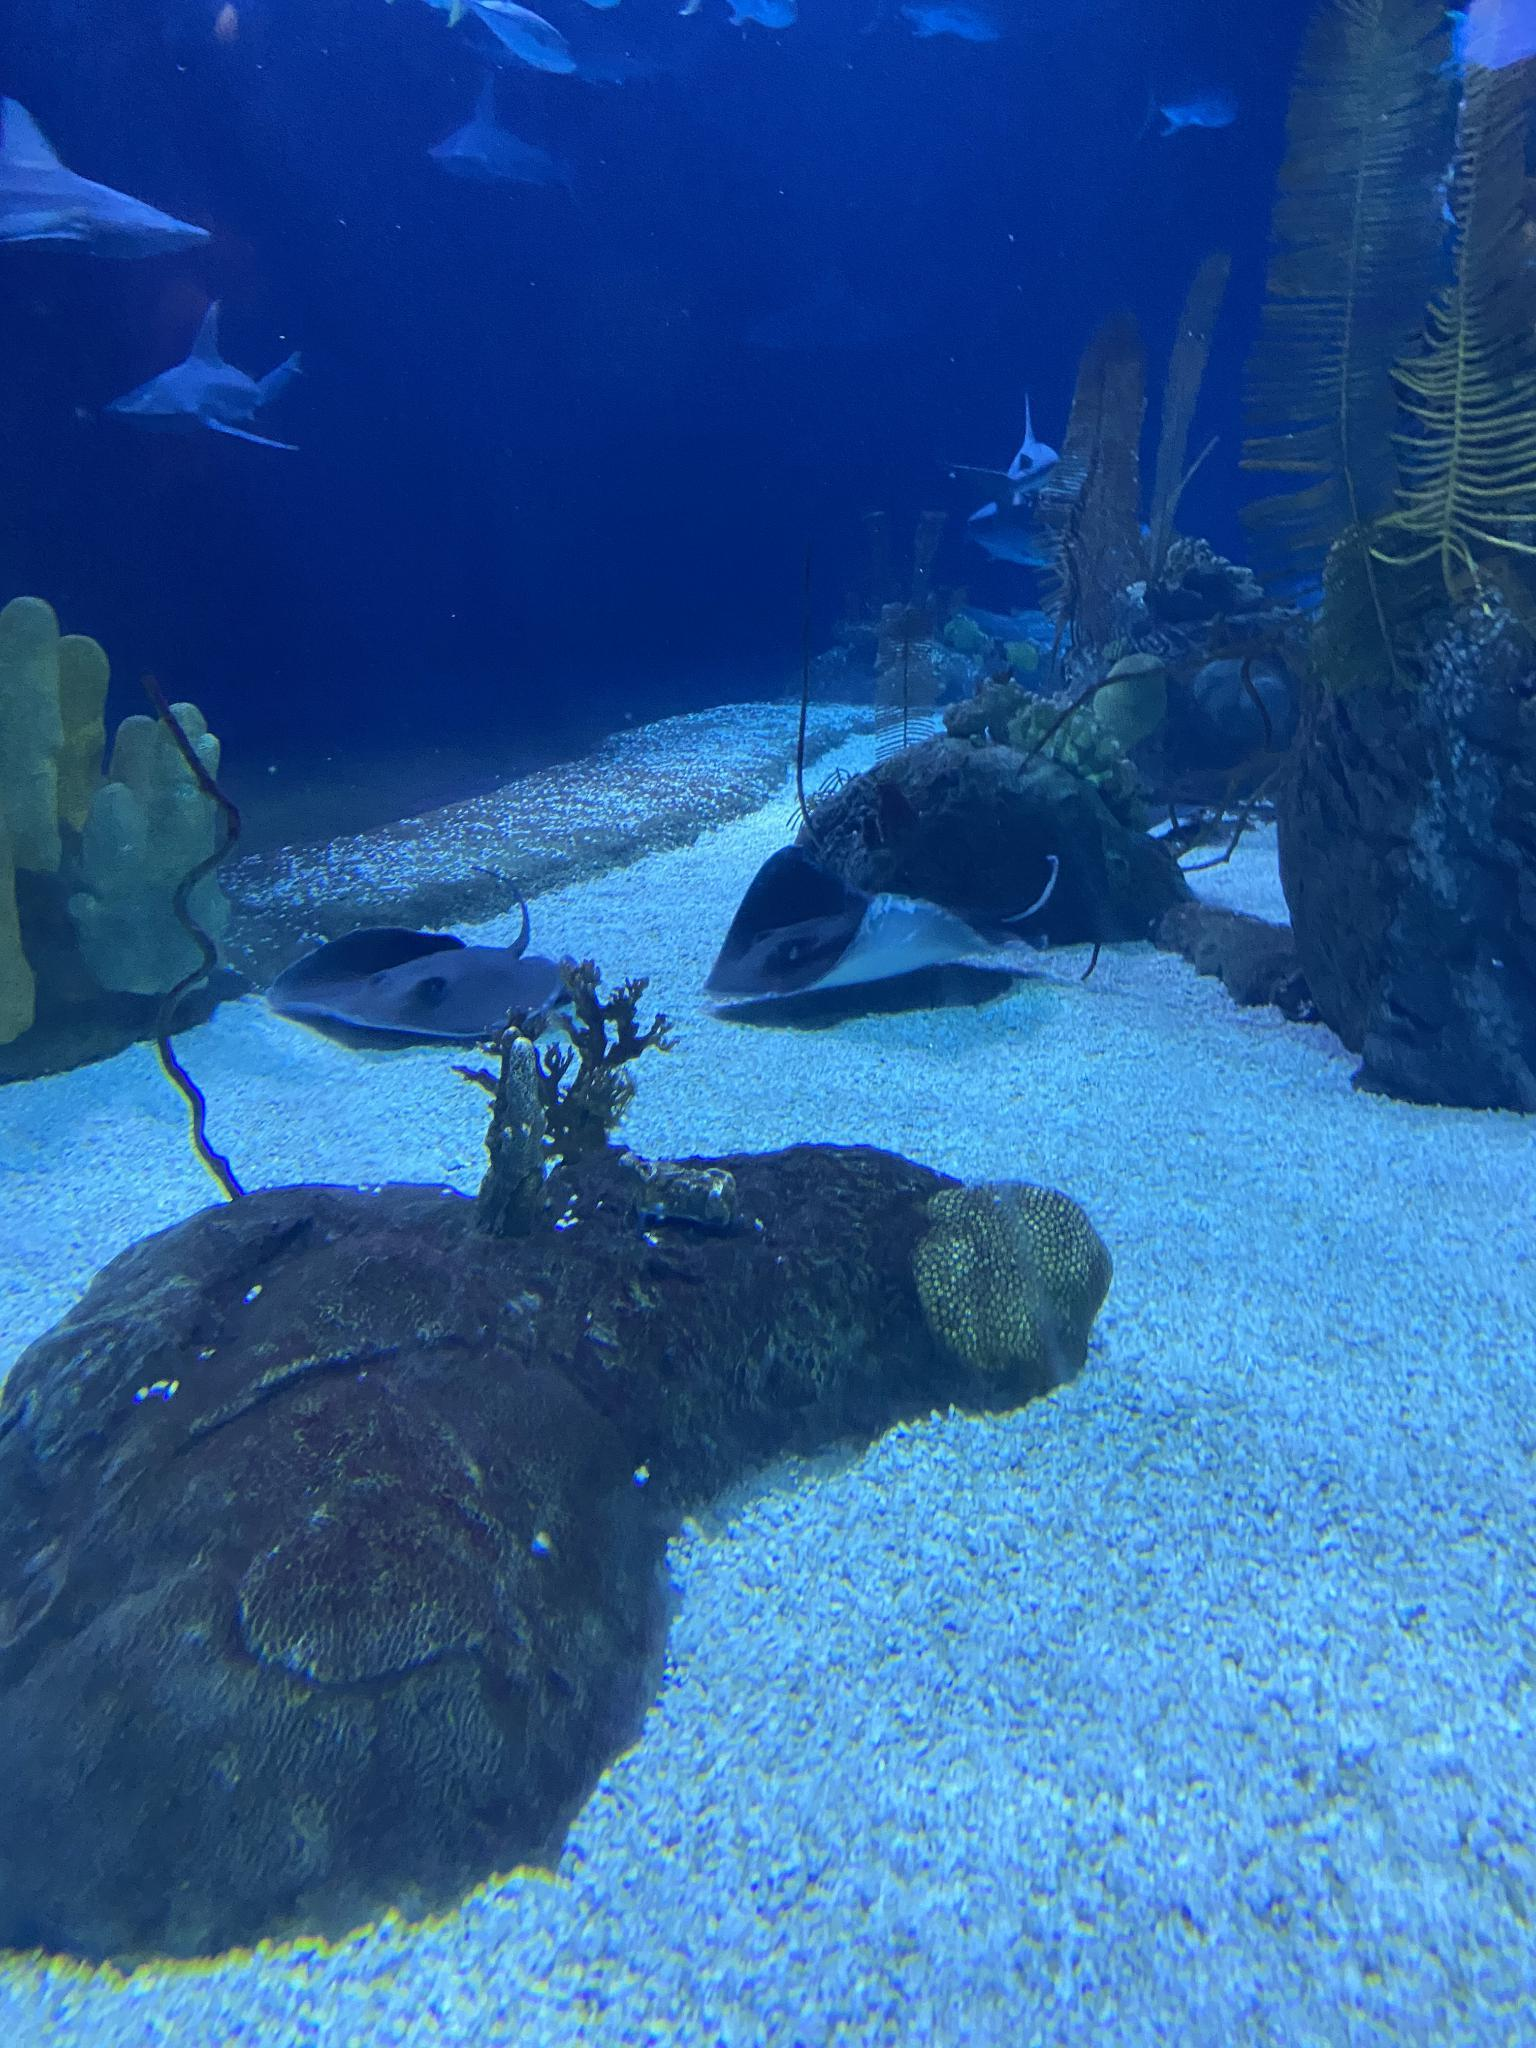fish: (457, 0, 591, 76), (878, 0, 1012, 61), (1139, 82, 1262, 135), (691, 0, 800, 44)
shark: (0, 131, 219, 264), (84, 356, 332, 442), (407, 95, 595, 198), (942, 447, 1096, 558)
stingray: (678, 851, 1058, 1030), (266, 892, 566, 1042)
